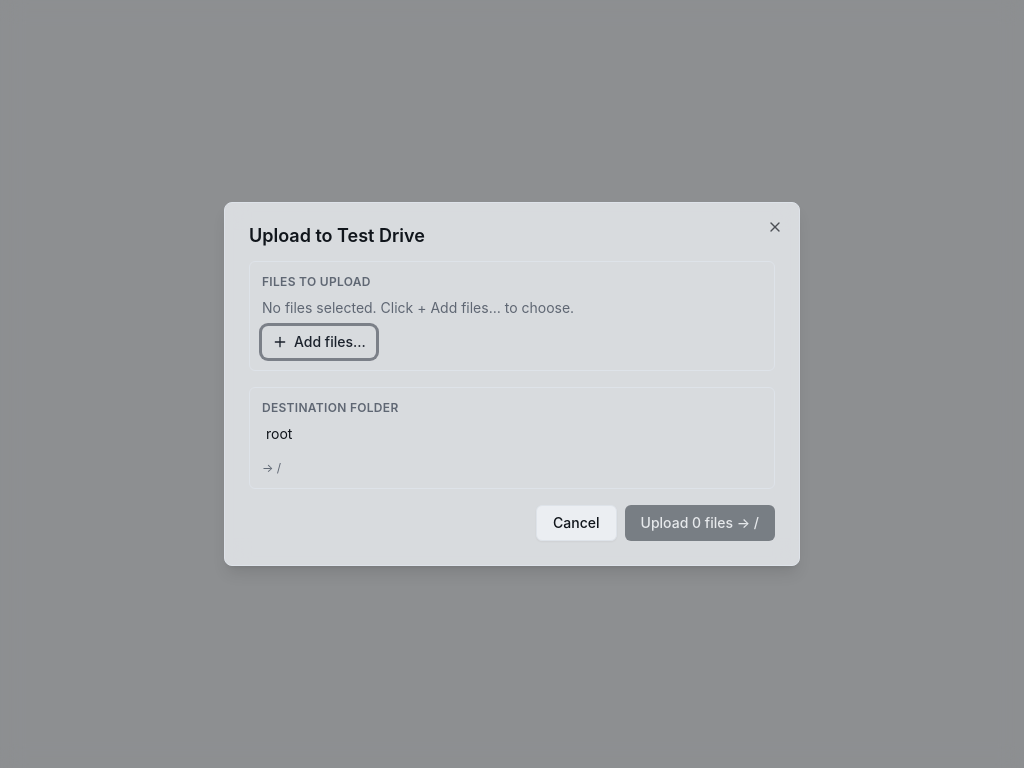
Test case: UploadDialog — files section › (c) '+ Add files…' calls pickFilesToUpload and appends the paths to the list
Click the button with test id "upload-dialog-add-files": (319, 342) [262,326,376,358]
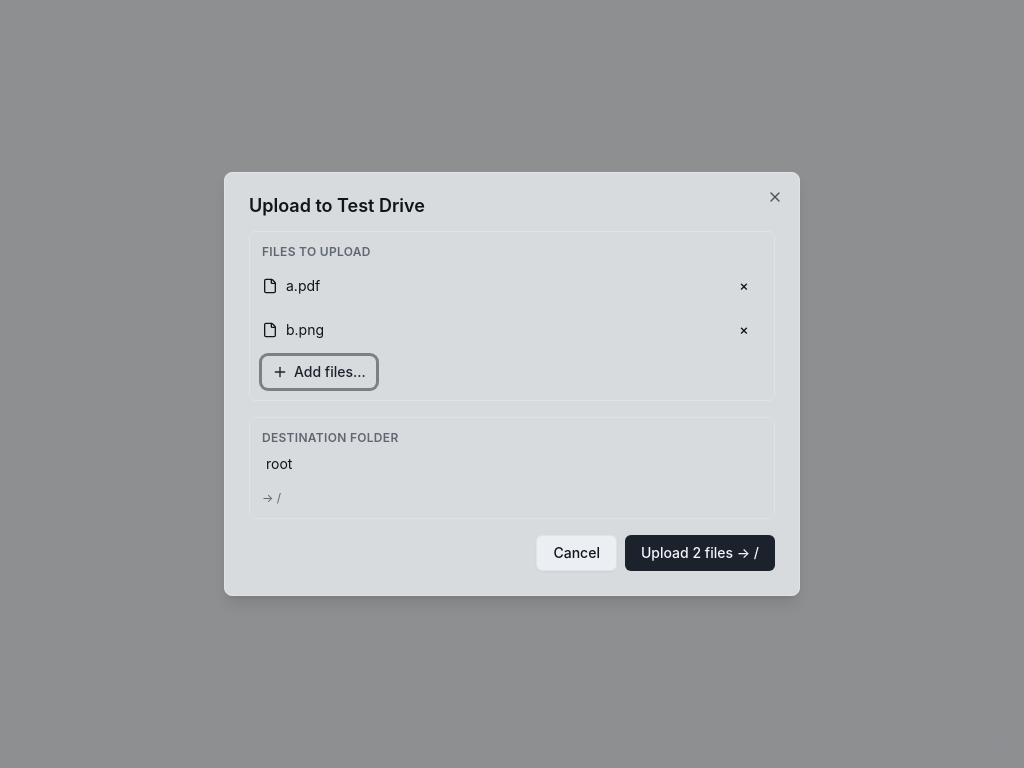
Result: the number of list items with test id "upload-dialog-file-row" is 2 at [262,268,762,304]; [262,312,762,348]
Click the button with test id "upload-dialog-add-files": (319, 372) [262,356,376,388]
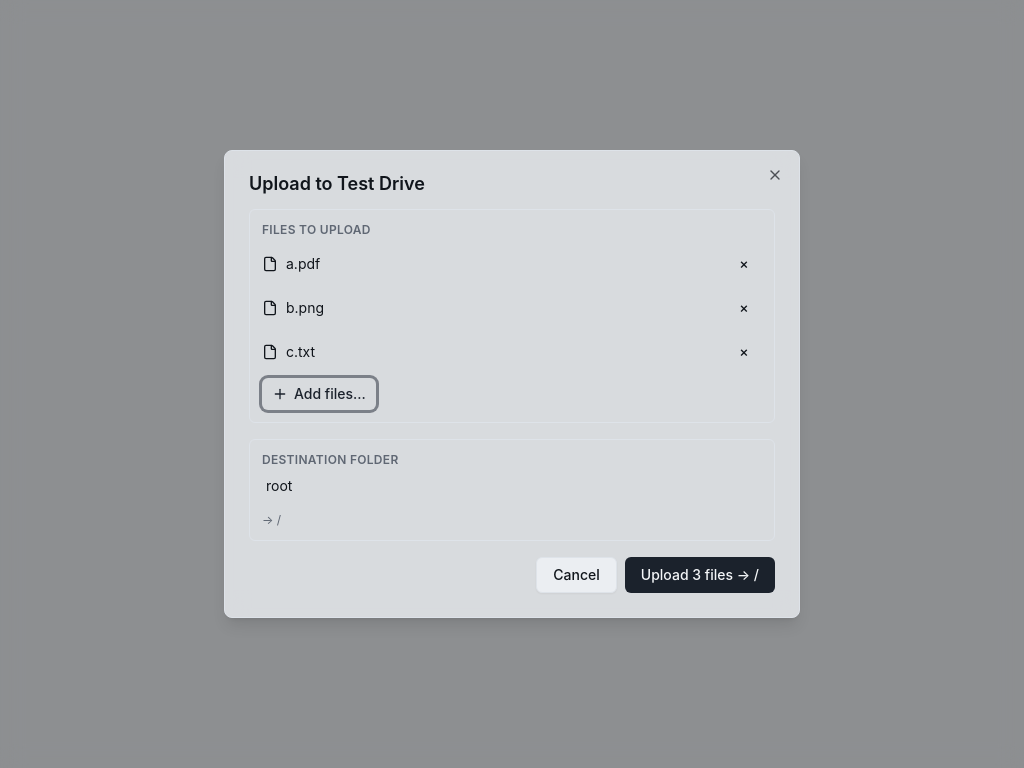
Result: the number of list items with test id "upload-dialog-file-row" is 3 at [262,246,762,282]; [262,290,762,326]; [262,334,762,370]
